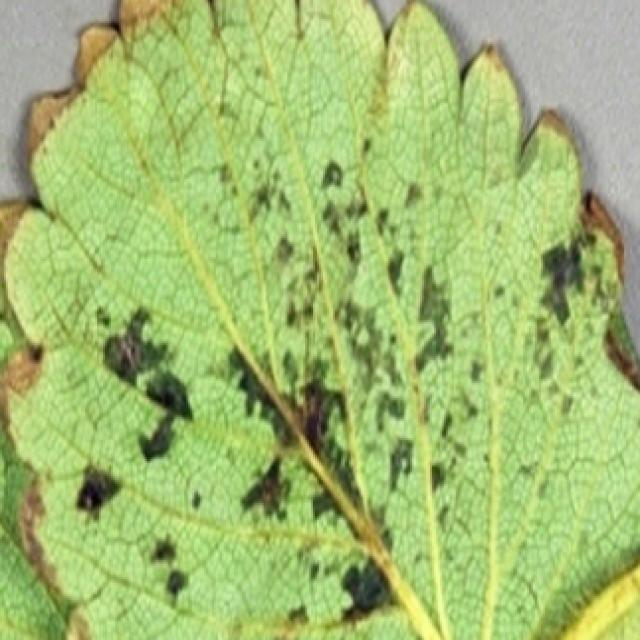Angular Leafspot: (0, 0, 640, 640)
